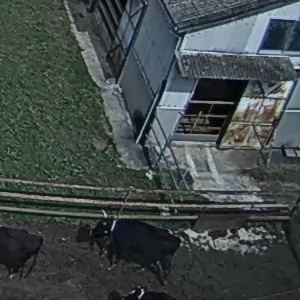cow: (80, 204, 204, 282), (1, 215, 48, 286)
